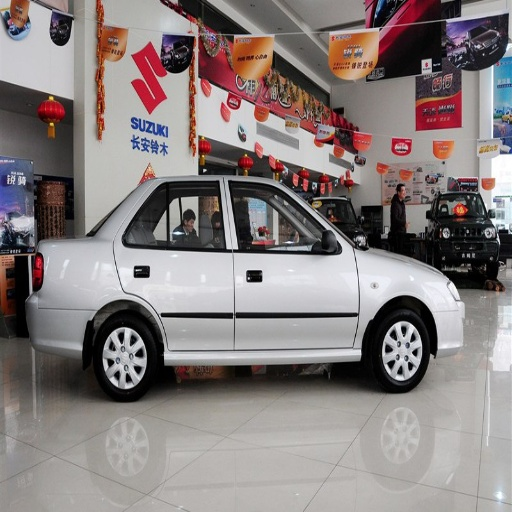back_right_door: (116, 177, 233, 351)
front_right_door: (229, 178, 360, 347)
